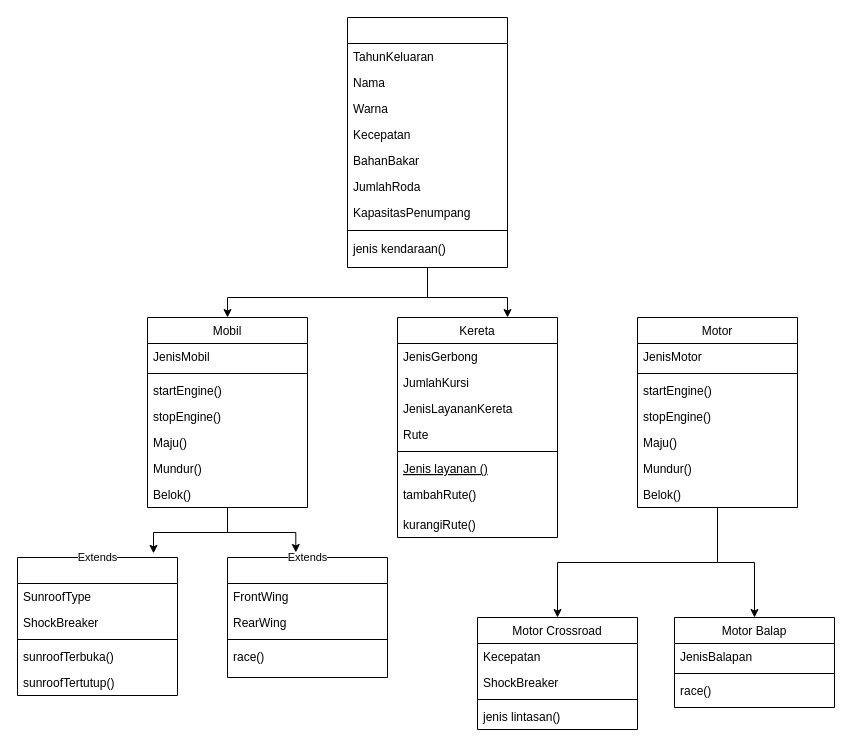
This 852x750 diagram has some shape labels left out. Here are the shapes that lost their labels. From the top down, the box of each, then its label:
(346, 16, 508, 268): Kendaraan Darat
(16, 556, 178, 696): Mobil Crossroad
(226, 556, 388, 678): Mobil Balap
